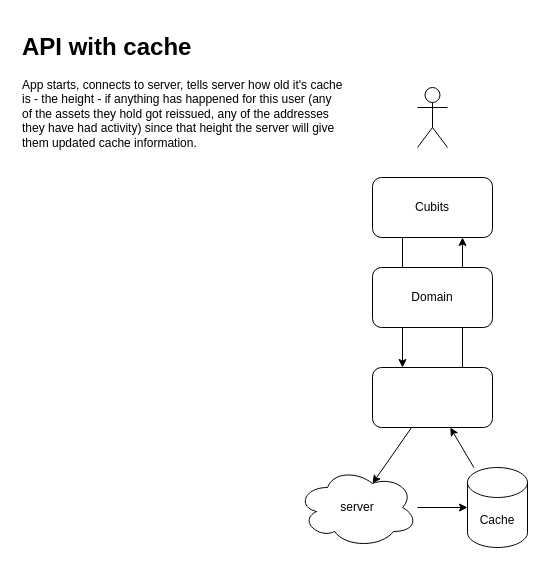
Some shapes in this 545 by 565 pixel diagram are drawn without their labels. Each missing label, with the box of its shape:
Actor: (416, 86, 448, 148)
Reservoir: (372, 366, 492, 428)
